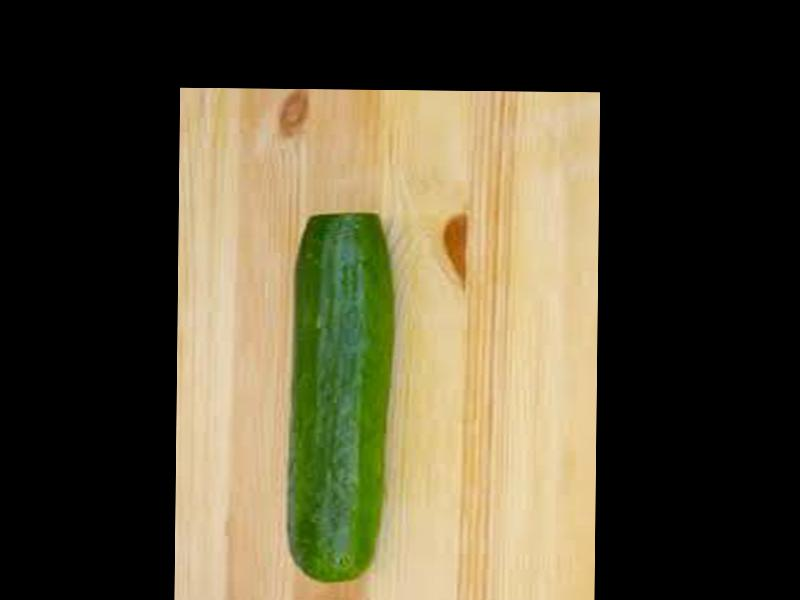Cucumber: (287, 214, 391, 583)
